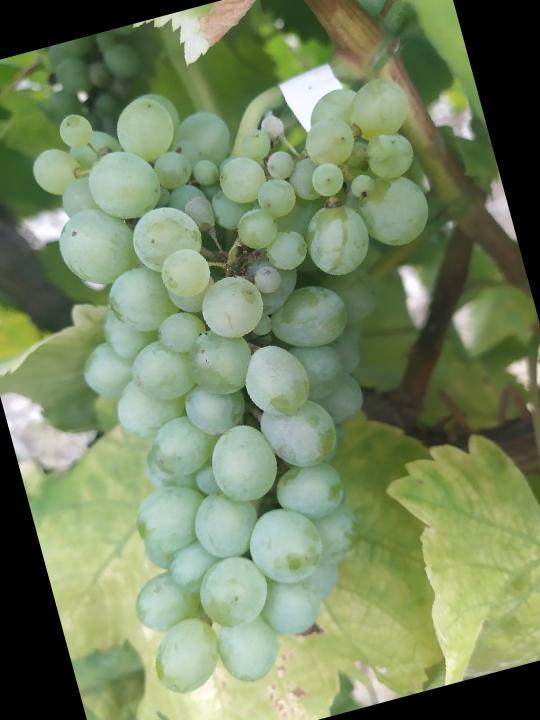grape: (3, 24, 540, 712)
